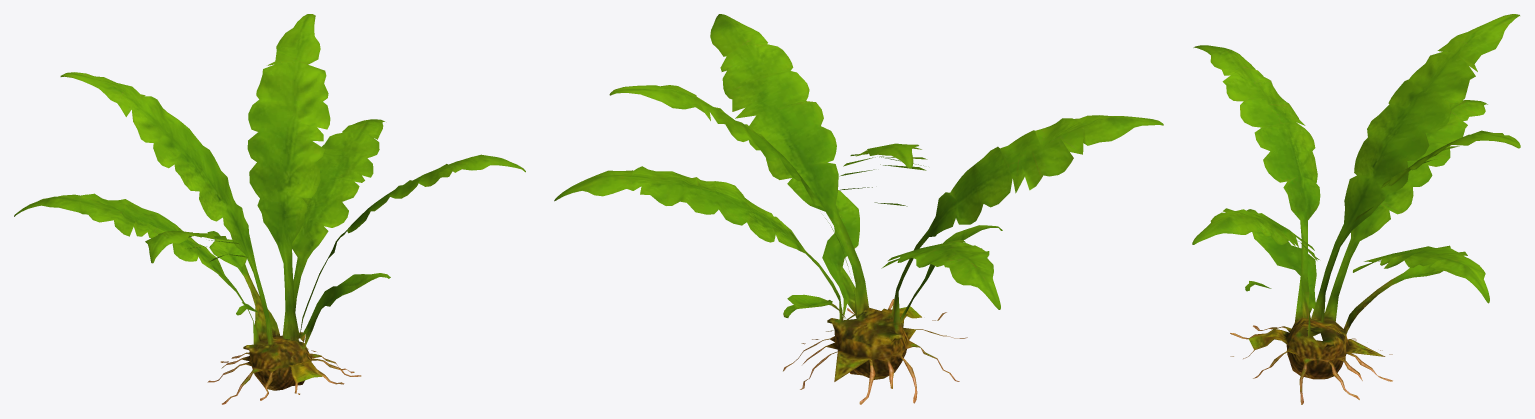
File: fern.glb
The picture shows the model from 3 angles, left to right: view 1: azimuth 30°, elevation 25°; view 2: azimuth 150°, elevation 25°; view 3: azimuth 270°, elevation 25°; orthographic projection. The views are drawn at different scales.
Parts seen in each view (by area): view 1: fern; view 2: fern; view 3: fern.
Part boxes in pixels (<box>): fern: <box>14,14,525,404</box>; fern: <box>554,14,1163,404</box>; fern: <box>1192,14,1520,404</box>.
Size of the model in its own units: 0.9995 by 0.6997 by 0.7075.
Materials: 1 (1 with a texture image).
